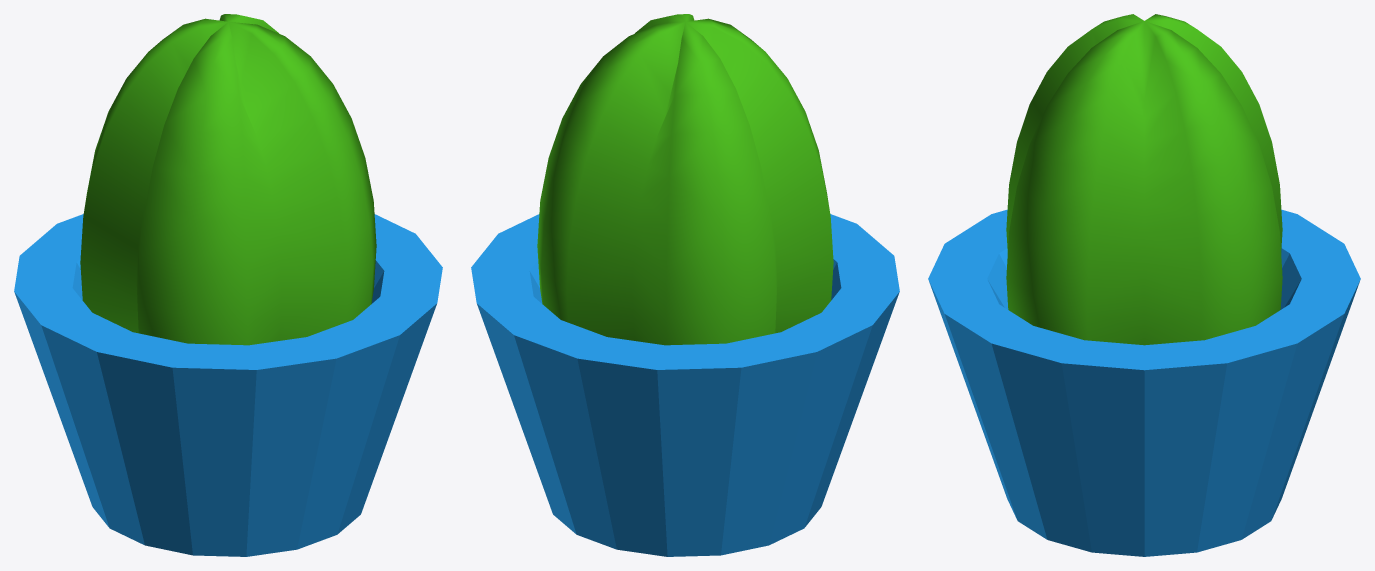
Rendered from cactus2.obj.
3 renders of one model, left to right at view 1: azimuth 30°, elevation 25°; view 2: azimuth 150°, elevation 25°; view 3: azimuth 270°, elevation 25°, orthographic.
Visible parts, largest first — view 1: Succulent.003_Cylinder.017; view 2: Succulent.003_Cylinder.017; view 3: Succulent.003_Cylinder.017.
Boxes of the visible parts, x1,y1,x2,y2 form: Succulent.003_Cylinder.017: [14, 14, 442, 556]; Succulent.003_Cylinder.017: [471, 14, 899, 556]; Succulent.003_Cylinder.017: [928, 14, 1360, 556].
Size of the model in its own units: 0.58 by 0.7069 by 0.58.
